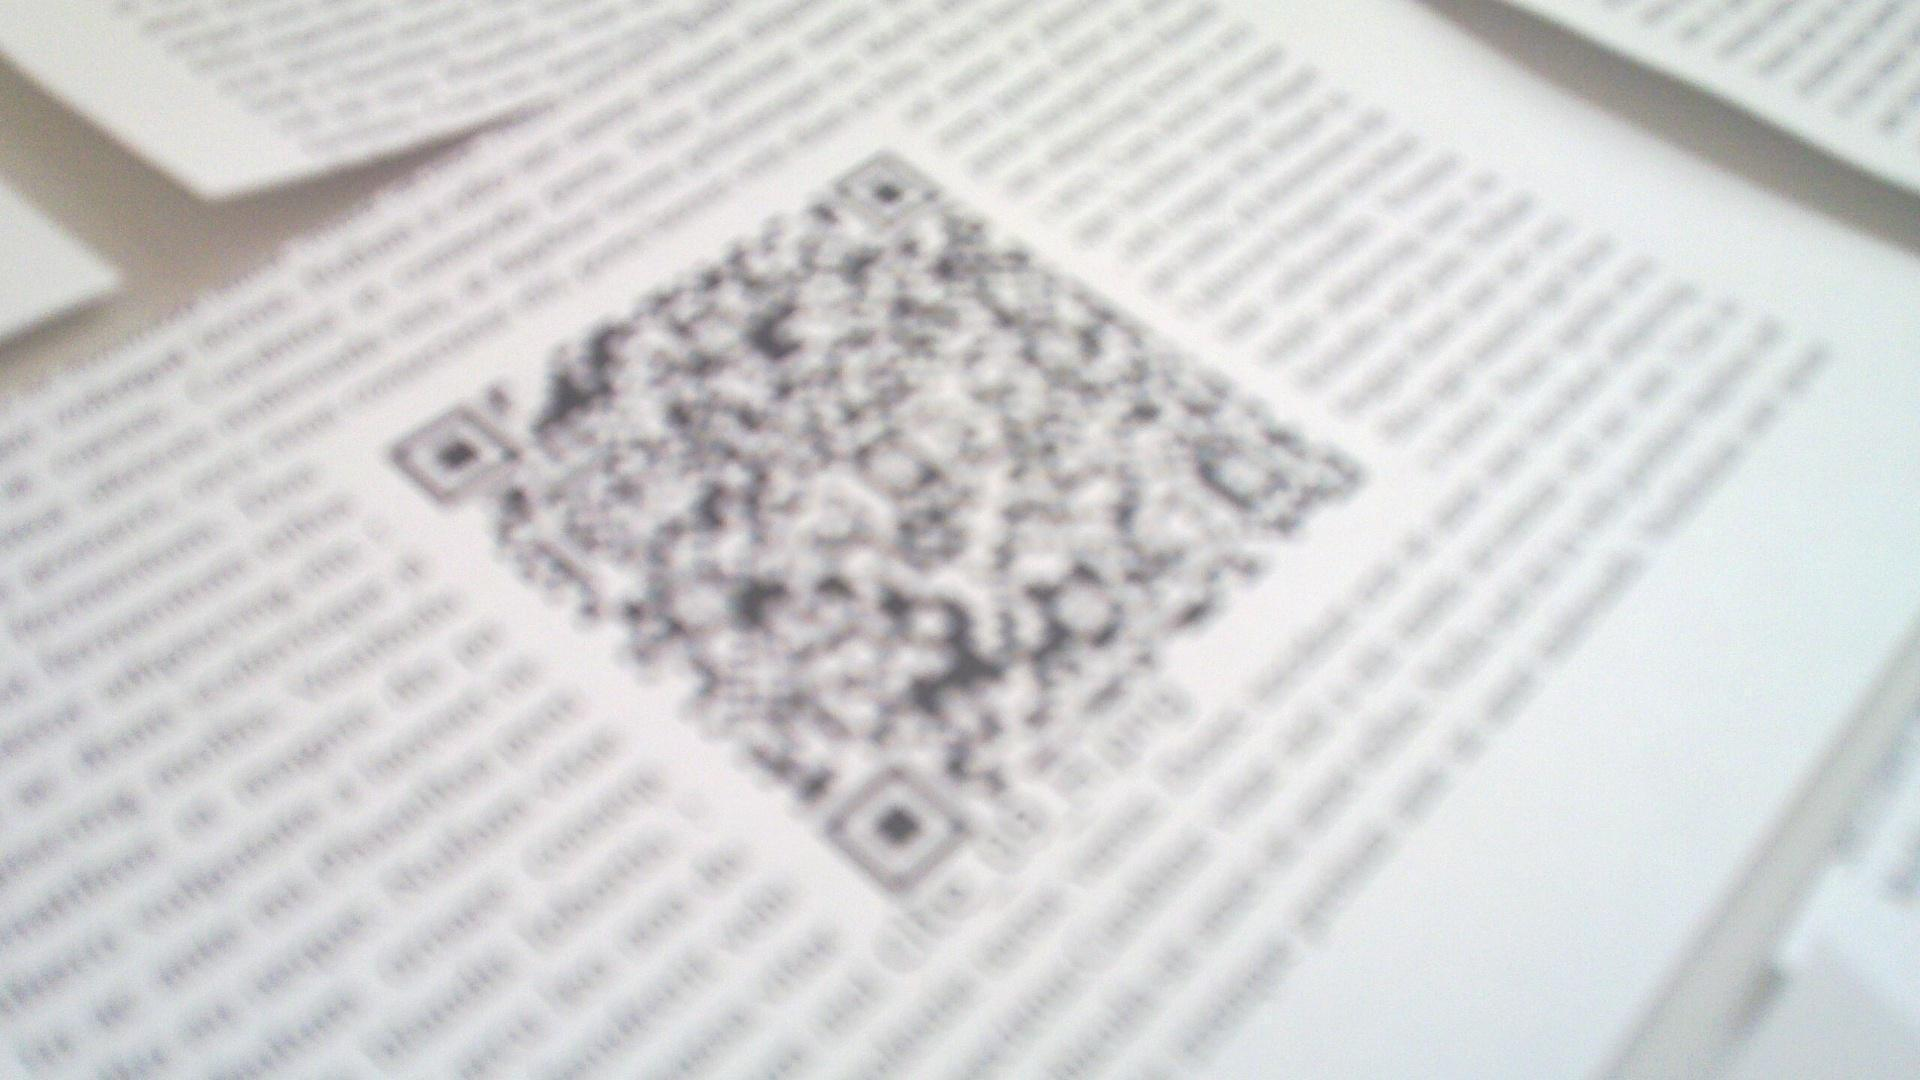qr_code: (396, 152, 1367, 897)
